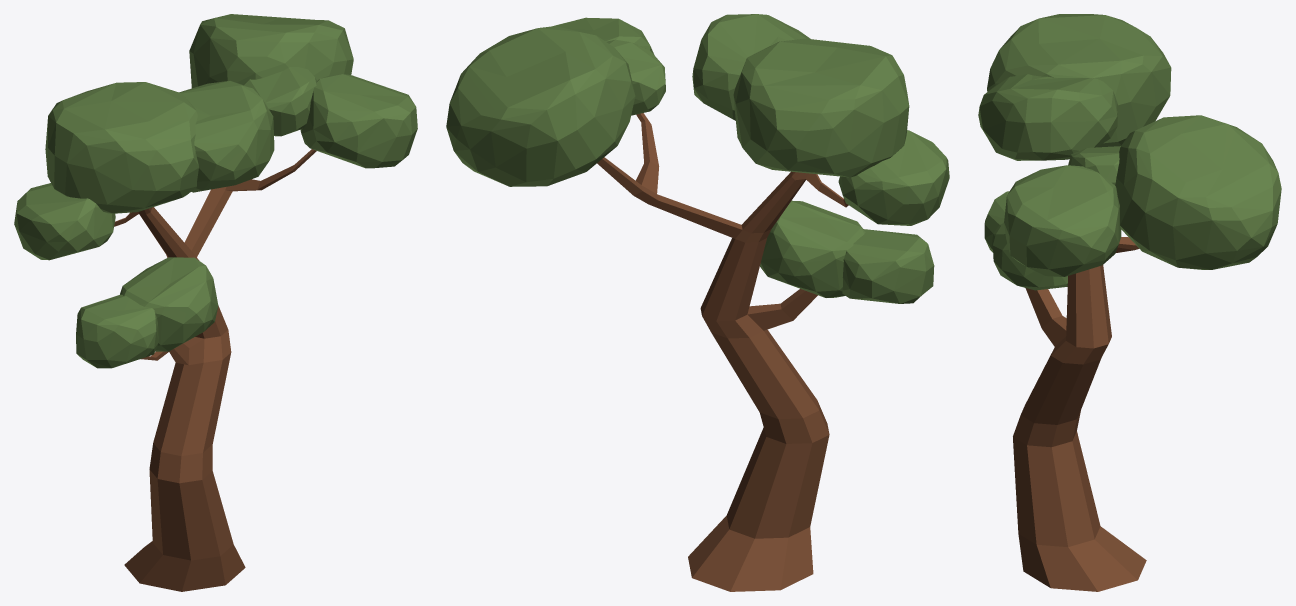
Rendered from arbol5.glb.
3 views of the same model, side by side, from view 1: azimuth 30°, elevation 25°; view 2: azimuth 150°, elevation 25°; view 3: azimuth 270°, elevation 25° (orthographic). The views are drawn at different scales.
Parts seen in each view (by area): view 1: Circle_4; view 2: Circle_4; view 3: Circle_4.
Boxes of the visible parts, bbox=[...] form: Circle_4: bbox=[14, 14, 417, 591]; Circle_4: bbox=[446, 14, 949, 591]; Circle_4: bbox=[978, 14, 1281, 591].
Bounding box in the file's own units: 2.78 × 3.32 × 1.83.
